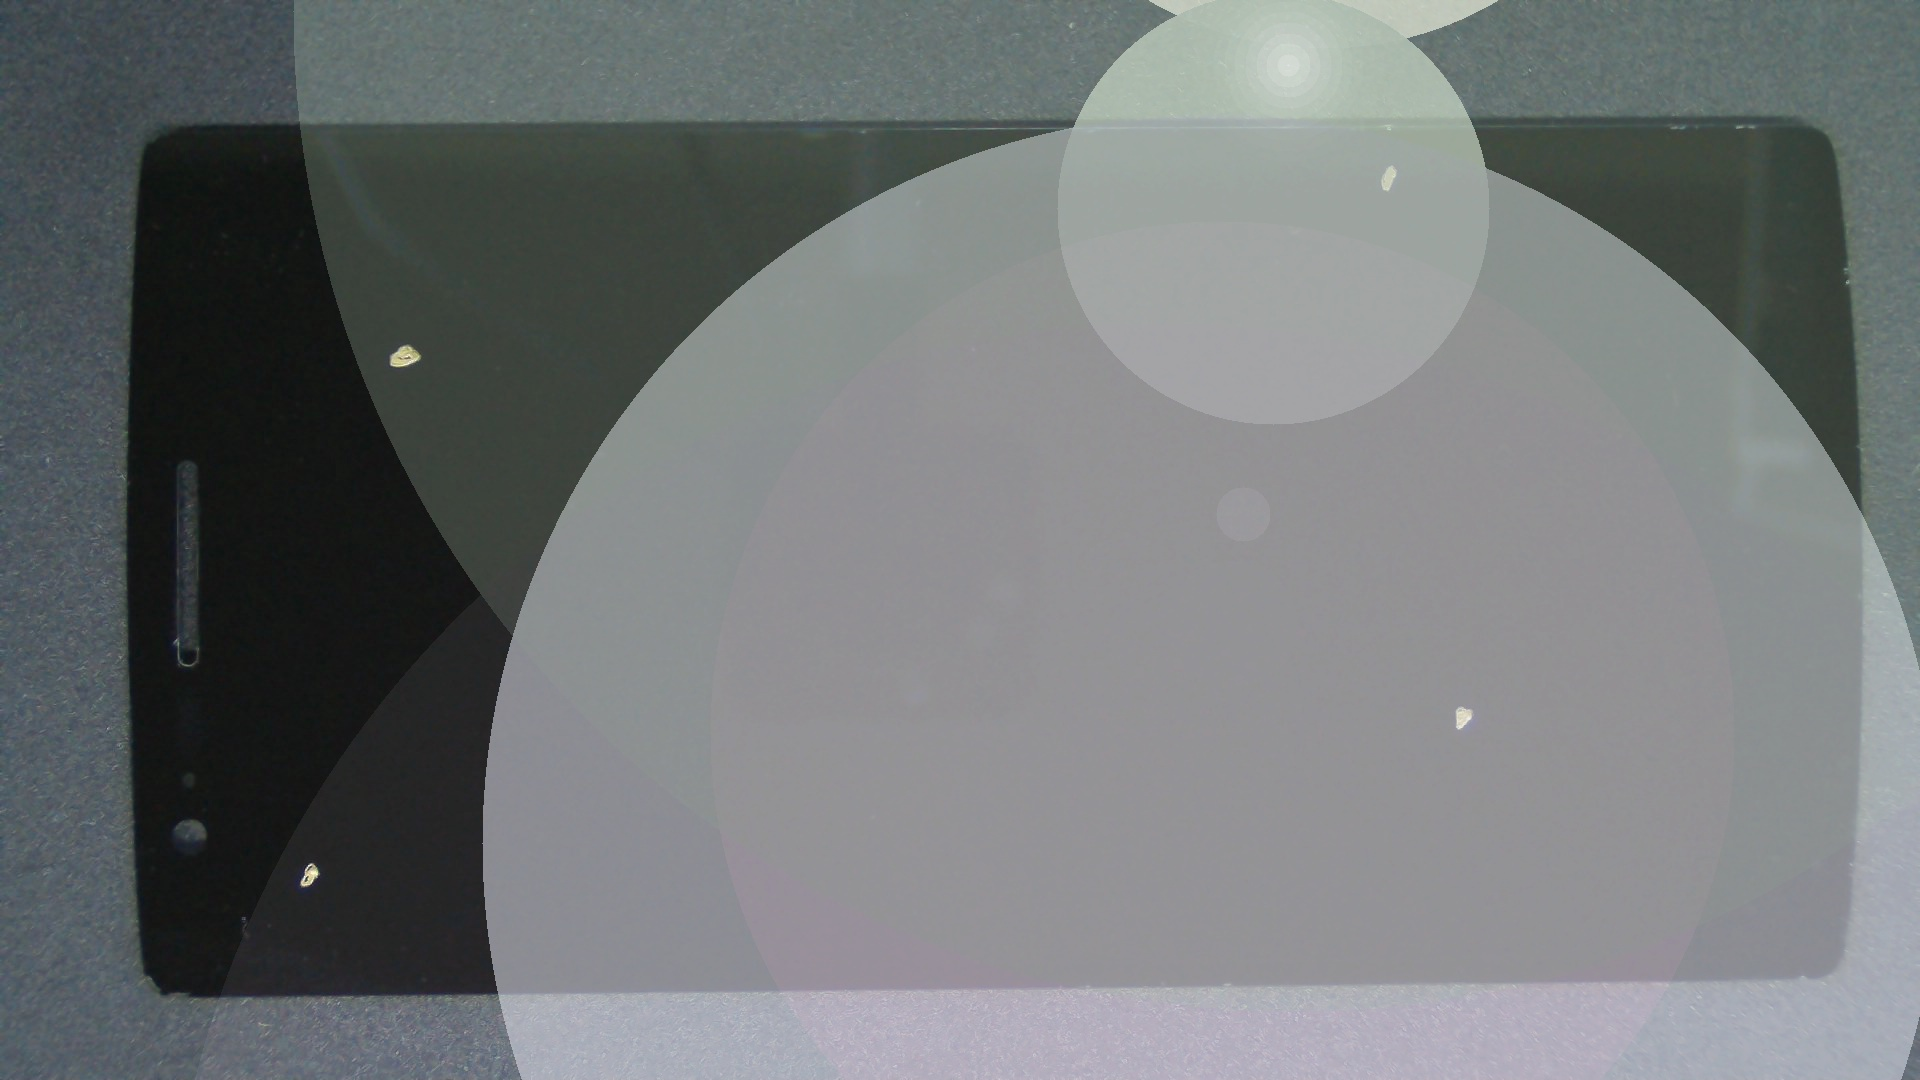oil: (735, 347, 1920, 1058), (696, 80, 1920, 244), (156, 430, 462, 1080), (207, 170, 617, 513)
